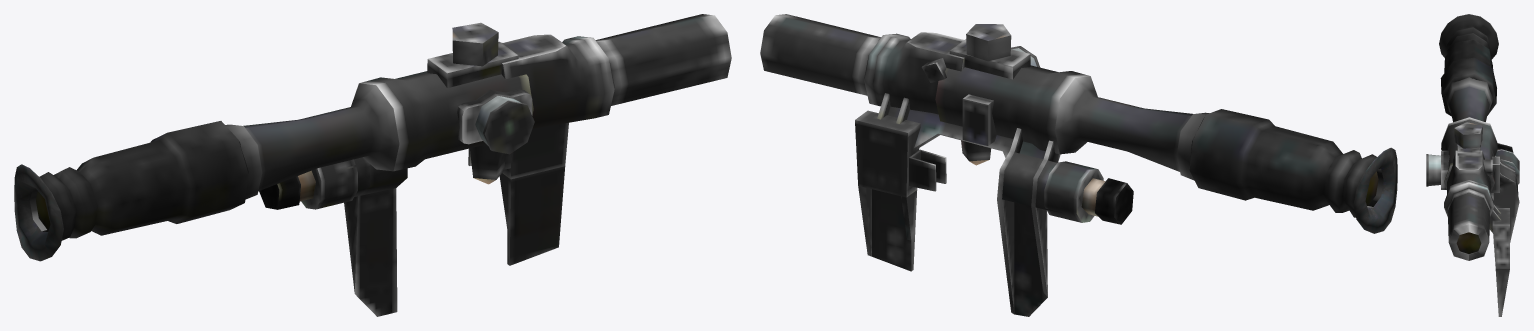
File: ST_WEP_VSS_Scope_Lod.FBX
3 views of the same model, side by side, from view 1: azimuth 30°, elevation 25°; view 2: azimuth 150°, elevation 25°; view 3: azimuth 270°, elevation 25° (orthographic). The views are drawn at different scales.
Parts seen in each view (by area): view 1: ST_WEP_VSS_Scope_Lod; view 2: ST_WEP_VSS_Scope_Lod; view 3: ST_WEP_VSS_Scope_Lod.
Boxes of the visible parts, x1,y1,x2,y2 form: ST_WEP_VSS_Scope_Lod: [14, 14, 731, 316]; ST_WEP_VSS_Scope_Lod: [760, 14, 1397, 316]; ST_WEP_VSS_Scope_Lod: [1426, 14, 1519, 316].
Size of the model in its own units: 31.18 by 12.34 by 6.1.
Materials: 1 (1 with a texture image).
